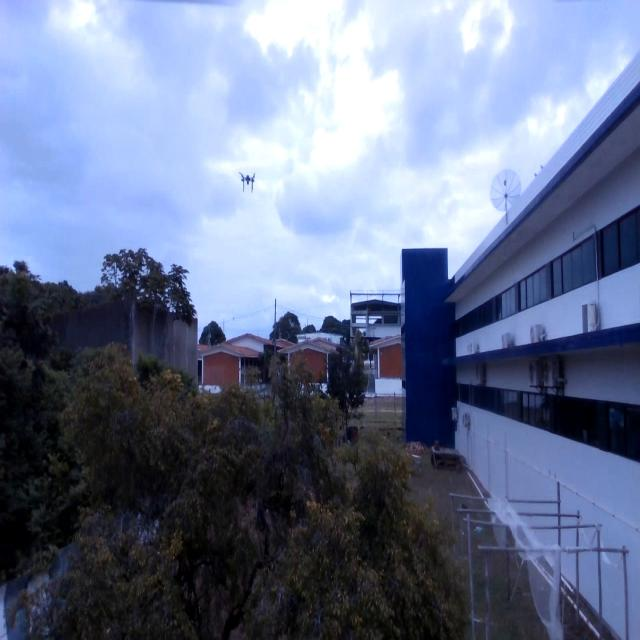-uav-: (236, 163, 257, 197)
